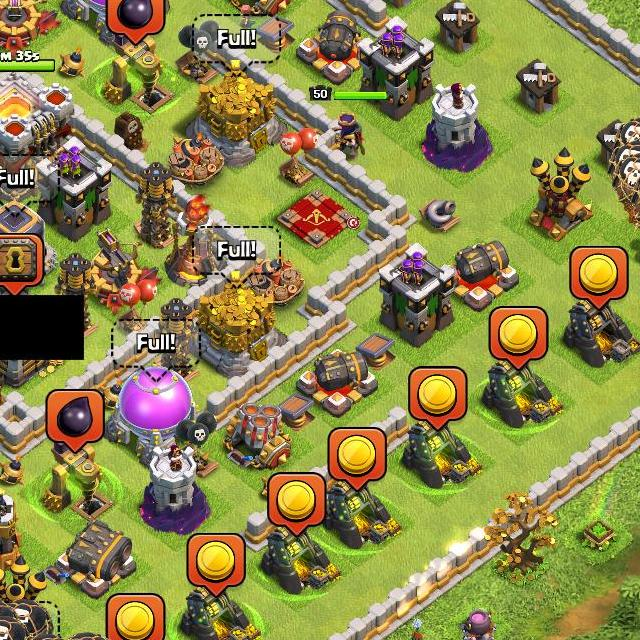FullCoin: (488, 305, 550, 372), (568, 246, 630, 310), (408, 366, 467, 432), (186, 532, 246, 594), (329, 427, 387, 491), (266, 473, 324, 535), (106, 593, 166, 640)
FullElixirNegro: (46, 390, 106, 454), (107, 0, 165, 47)
